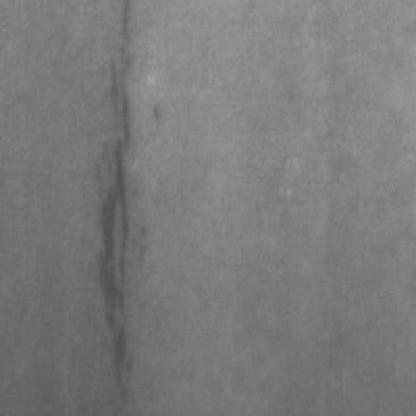inclusion: (86, 58, 140, 408), (98, 0, 135, 146)
